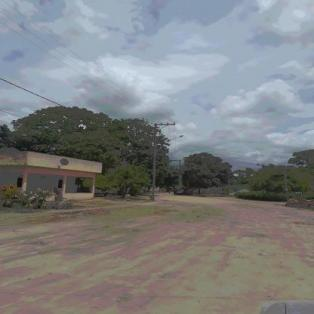Poste: (151, 123, 158, 202)
